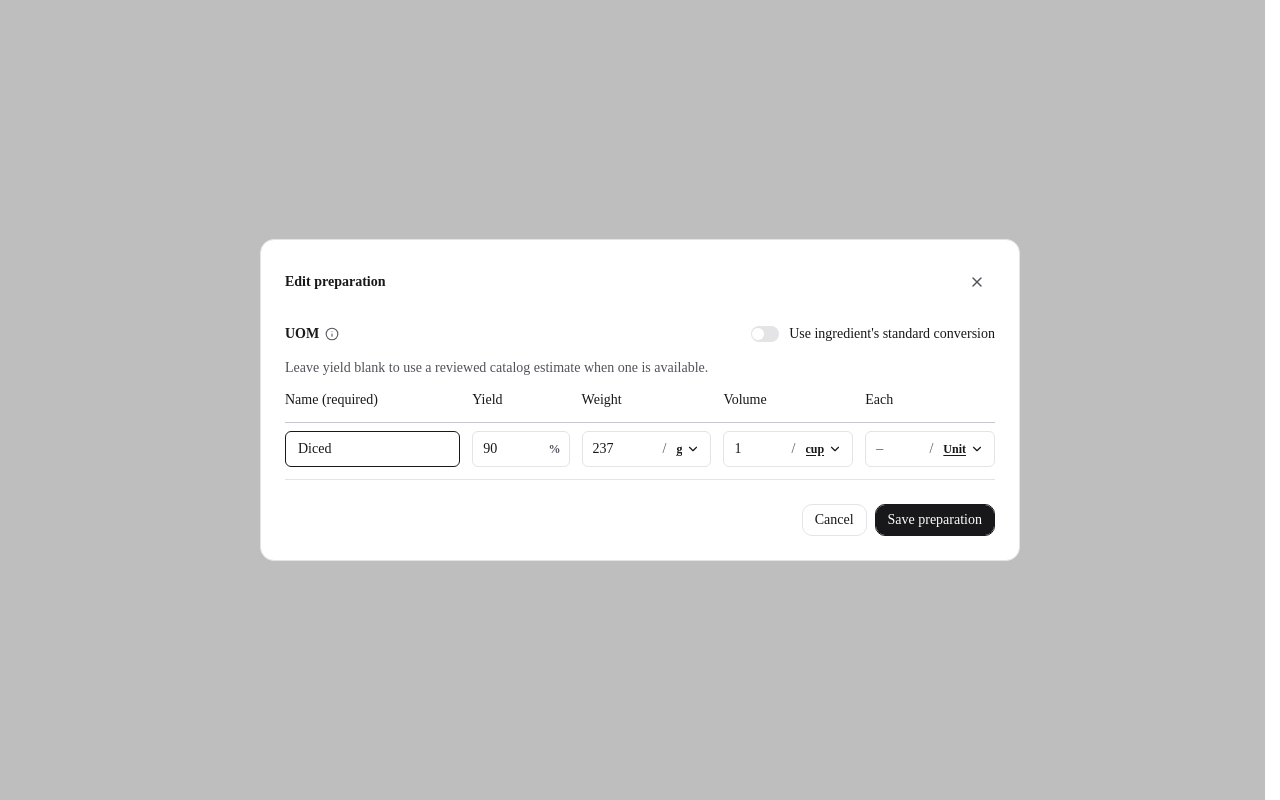
Test: a preparation that has to reach the server › stays open and says why when the save did not land
This screenshot has width=1280, height=800.
Type "Small dice" into the field named "Name (required)" at (373, 449), box [285,431,460,467]
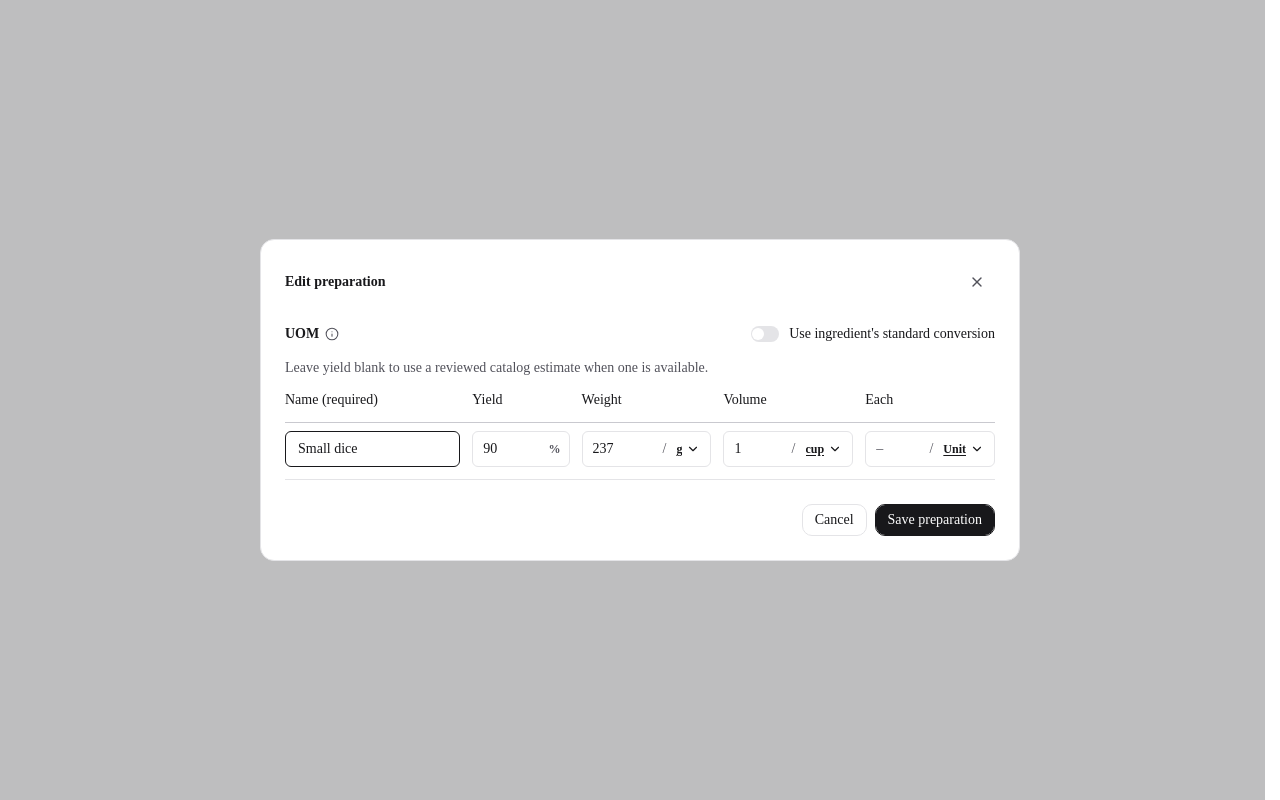
Click the button "Save preparation" at (935, 520), box [874,504,995,536]
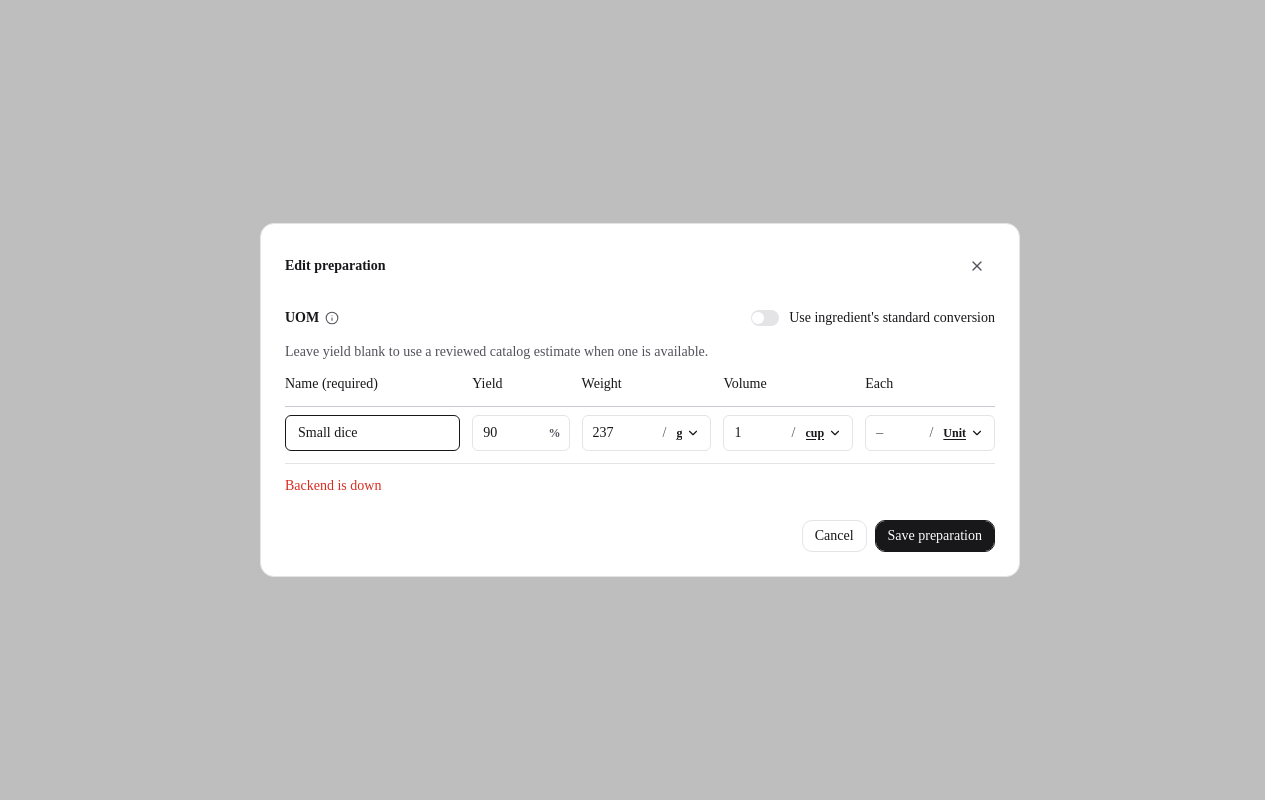
Expected: the message reads "Backend is down", [285,478,381,493]
